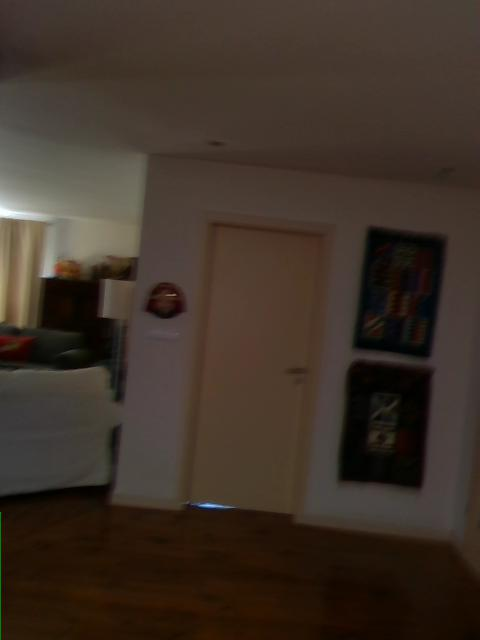door: (174, 217, 335, 527)
